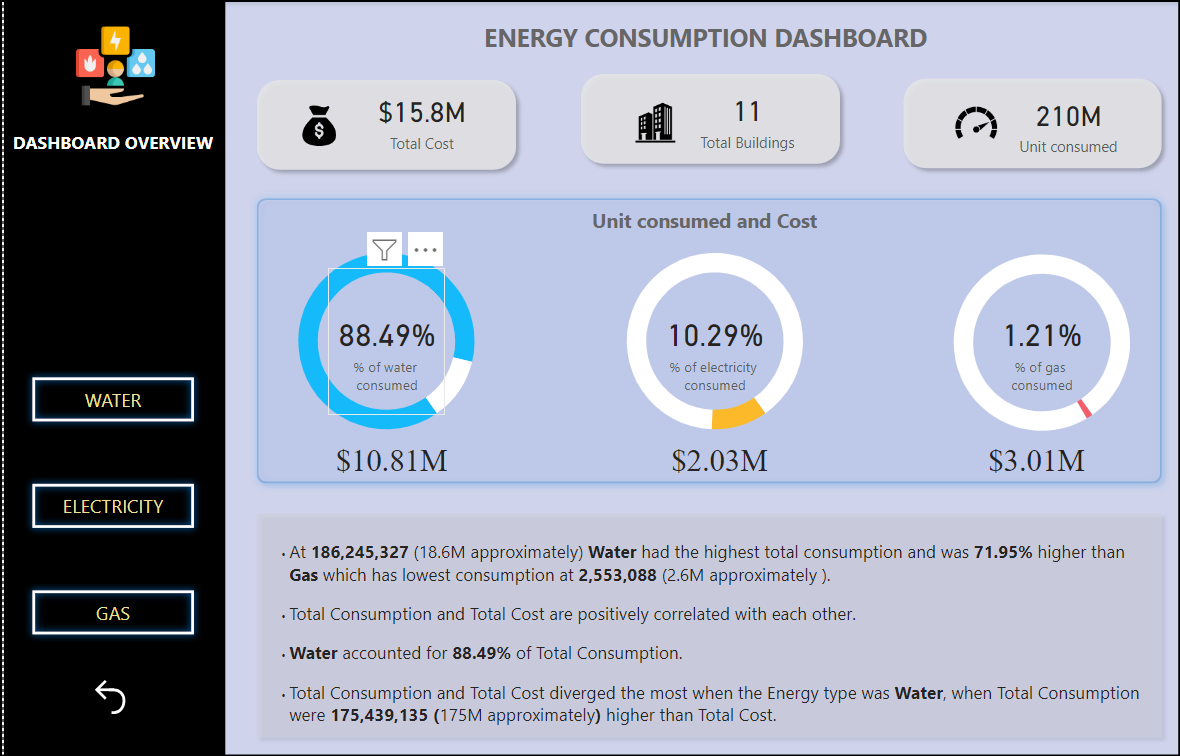

The dashboard page shown, as its layout file describes it:
{"tool":"powerbi","page":{"name":" OVERVIEW","canvas":[1280,820],"ordinal":0},"visuals":[{"type":"shape","box":[266.5,205,1002.2,328],"z":0},{"type":"shape","box":[0,0,240.4,820],"z":1000},{"type":"shape","box":[618.2,69.9,300,115.8],"z":2000,"group":"g1"},{"type":"shape","box":[969.6,74.8,299,115.8],"z":2000},{"type":"donutChart","fields":{"Y":["All Measures.Water Unit consumed","All Measures.Water Unit consumed left"]},"box":[271.4,245.3,289.4,249.6],"z":3000},{"type":"card","fields":{"Values":["All Measures.Water Cost"]},"box":[287.3,461.2,267.7,72.4],"z":4000},{"type":"shape","title":"Total Cost","box":[266.5,77.2,300,115.8],"z":5000},{"type":"card","fields":{"Values":["All Measures.% of water consumed"]},"box":[352.2,291.1,127.8,159.2],"z":6000},{"type":"donutChart","fields":{"Y":["All Measures.Gas Unit consumed","All Measures.Gas Unit consumed left"]},"box":[984.1,246.5,289.4,249.6],"z":7000},{"type":"donutChart","fields":{"Y":["All Measures.Electricity Unit consumed","All Measures.Electricity Unit consumed left"]},"box":[627.7,245.3,289.4,249.6],"z":8000},{"type":"card","fields":{"Values":["All Measures.% of gas consumed"]},"box":[1064.9,291.1,126.6,159.2],"z":9000},{"type":"card","fields":{"Values":["All Measures.% of electricity consumed"]},"box":[709.1,291.1,126.6,159.2],"z":10000},{"type":"card","fields":{"Values":["All Measures.Gas Cost"]},"box":[989.2,461.2,267.7,72.4],"z":11000},{"type":"card","fields":{"Values":["All Measures.Electricity Cost"]},"box":[644.3,461.2,266.5,72.4],"z":12000},{"type":"textbox","box":[517.4,15.7,506.5,62.7],"z":13000},{"type":"image","box":[66.3,15.7,108.5,108.5],"z":14000},{"type":"textbox","box":[5.6,135,235.3,69.6],"z":15000},{"type":"group","id":"g1","title":"Group 2","box":[618.2,69.9,300,115.8],"z":16000},{"type":"card","fields":{"Values":["All Measures.Unit consumed"]},"box":[1056.5,84.4,200.2,96.5],"z":17000},{"type":"card","fields":{"Values":["Count(Building Master.Building)"]},"box":[708.7,74.7,200.2,106.1],"z":18000,"group":"g1"},{"type":"textbox","box":[634.8,219,264.5,45.9],"z":18000},{"type":"actionButton","box":[23.2,401.1,191.8,63.9],"z":19000},{"type":"card","fields":{"Values":["All Measures.Total Cost"]},"box":[353.4,77.2,200.2,106.1],"z":20000},{"type":"image","box":[673.7,104.9,69.9,55.5],"z":21000,"group":"g1"},{"type":"actionButton","box":[23.2,516.9,191.8,63.9],"z":21000},{"type":"image","box":[314.8,107.3,55.5,55.5],"z":22000},{"type":"image","box":[1028.7,104.9,55.5,55.5],"z":23000},{"type":"actionButton","box":[23.2,632.7,191.8,63.9],"z":24000},{"type":"actionButton","box":[91.9,732.3,64,48.7],"z":25000},{"type":"shape","box":[265.9,548.5,1002.4,261.7],"z":26000},{"type":"textbox","box":[286.8,580.5,970.4,217.2],"z":27000}]}

Visuals, with their boxes in screenshot pixels (x1, y1, x2, y2), scaled from the page's 1280x820 canvas onto the 1180x756 screenshot:
shape: (x1=246, y1=189, x2=1170, y2=491)
shape: (x1=0, y1=0, x2=222, y2=755)
shape: (x1=570, y1=64, x2=846, y2=171)
shape: (x1=894, y1=69, x2=1169, y2=176)
donutChart - All Measures.Water Unit consumed x All Measures.Water Unit consumed left: (x1=250, y1=226, x2=517, y2=456)
card - All Measures.Water Cost: (x1=265, y1=425, x2=512, y2=492)
"Total Cost" shape: (x1=246, y1=71, x2=522, y2=178)
card - All Measures.% of water consumed: (x1=325, y1=268, x2=442, y2=415)
donutChart - All Measures.Gas Unit consumed x All Measures.Gas Unit consumed left: (x1=907, y1=227, x2=1174, y2=457)
donutChart - All Measures.Electricity Unit consumed x All Measures.Electricity Unit consumed left: (x1=579, y1=226, x2=845, y2=456)
card - All Measures.% of gas consumed: (x1=982, y1=268, x2=1098, y2=415)
card - All Measures.% of electricity consumed: (x1=654, y1=268, x2=770, y2=415)
card - All Measures.Gas Cost: (x1=912, y1=425, x2=1159, y2=492)
card - All Measures.Electricity Cost: (x1=594, y1=425, x2=840, y2=492)
textbox: (x1=477, y1=14, x2=944, y2=72)
image: (x1=61, y1=14, x2=161, y2=115)
textbox: (x1=5, y1=124, x2=222, y2=189)
"Group 2" group: (x1=570, y1=64, x2=846, y2=171)
card - All Measures.Unit consumed: (x1=974, y1=78, x2=1159, y2=167)
card - Count(Building Master.Building): (x1=653, y1=69, x2=838, y2=167)
textbox: (x1=585, y1=202, x2=829, y2=244)
actionButton: (x1=21, y1=370, x2=198, y2=429)
card - All Measures.Total Cost: (x1=326, y1=71, x2=510, y2=169)
image: (x1=621, y1=97, x2=686, y2=148)
actionButton: (x1=21, y1=477, x2=198, y2=535)
image: (x1=290, y1=99, x2=341, y2=150)
image: (x1=948, y1=97, x2=999, y2=148)
actionButton: (x1=21, y1=583, x2=198, y2=642)
actionButton: (x1=85, y1=675, x2=144, y2=720)
shape: (x1=245, y1=506, x2=1169, y2=747)
textbox: (x1=264, y1=535, x2=1159, y2=735)
